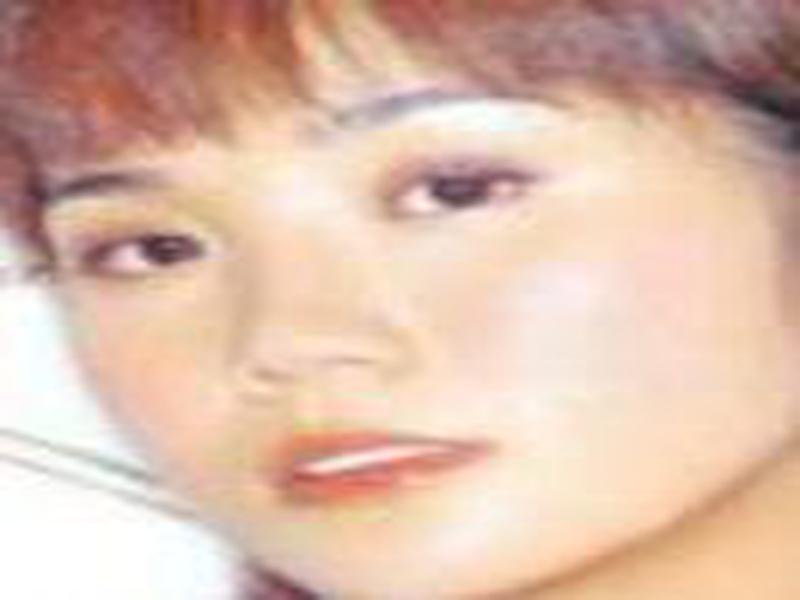without_mask: (29, 55, 768, 580)
